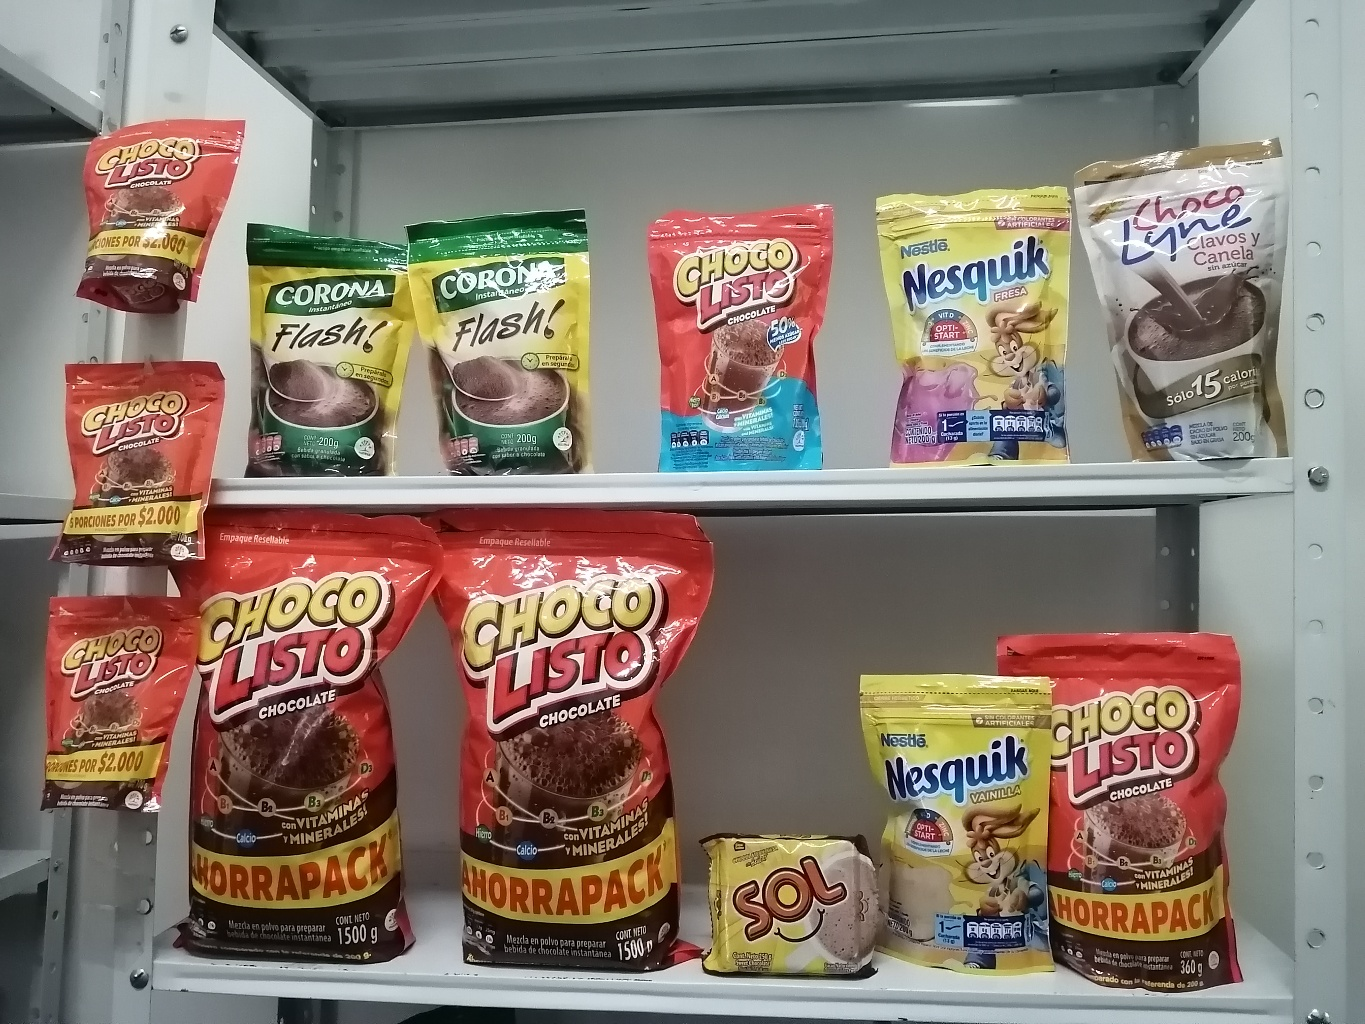COL0170103DYP1,500: (420, 496, 727, 966)
COL0170103DYP36000: (993, 621, 1249, 986)
COL0170104DYP20000: (645, 196, 838, 469)
COL0170305DYP20000: (873, 166, 1078, 466)
COL0170306DYP20000: (852, 657, 1060, 973)
